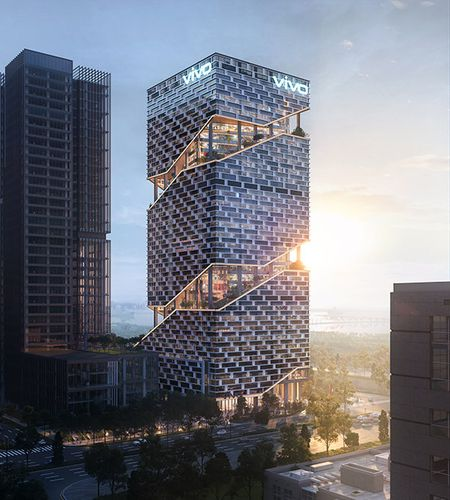buildings: (112, 80, 337, 418), (2, 49, 124, 360), (386, 285, 450, 489)
